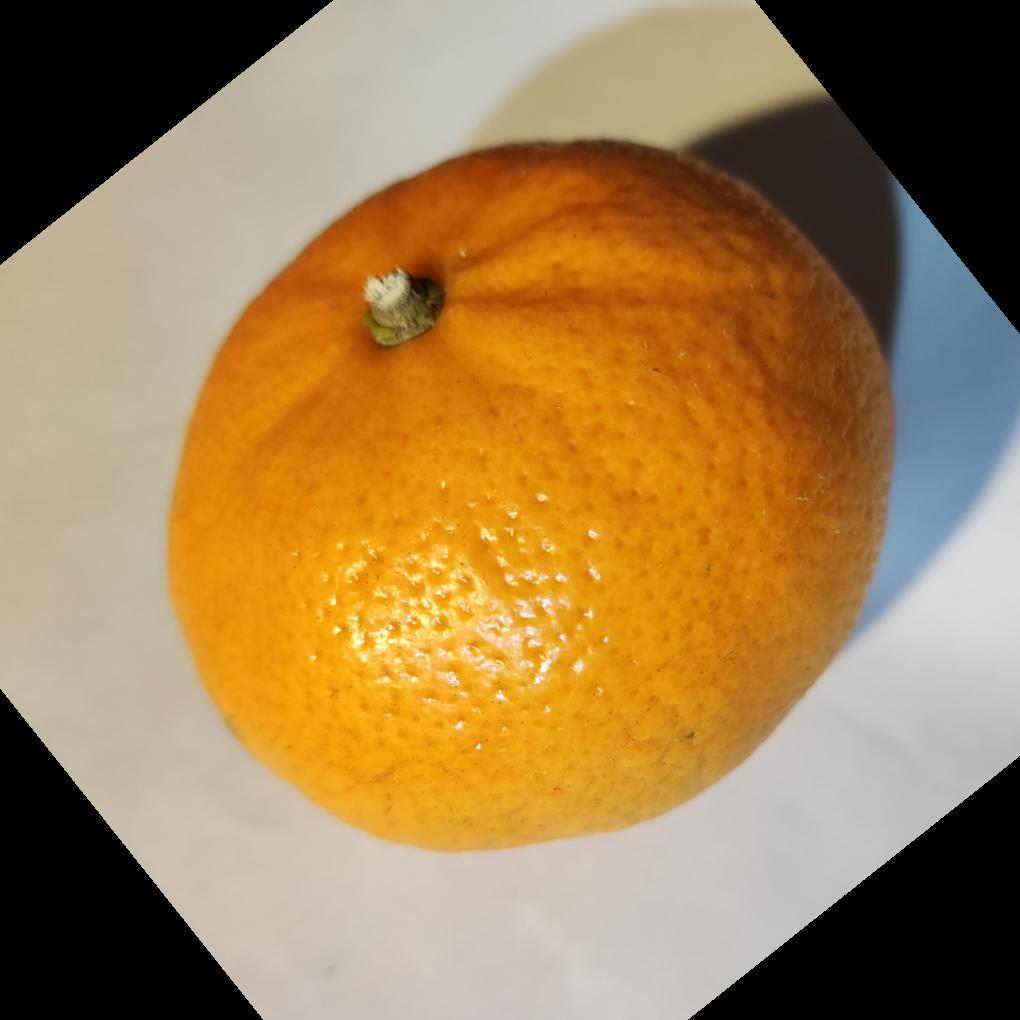FreshGuava: (160, 138, 899, 859)
